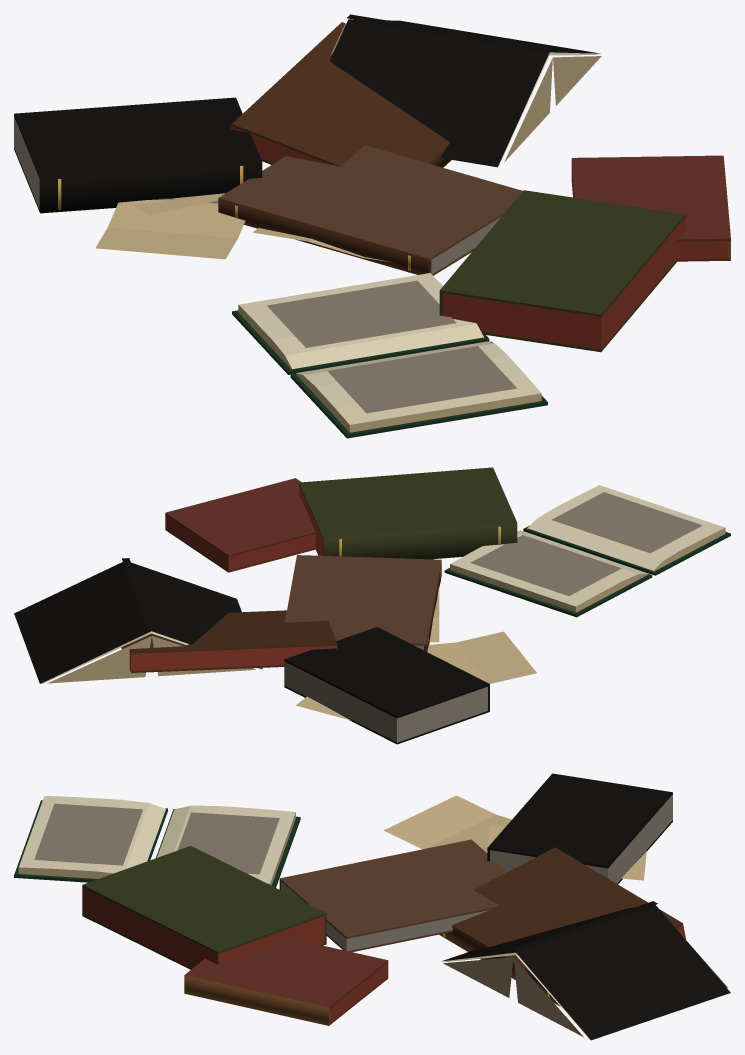
Rendered from books_fallen@1.glb.
3 renders of one model, top to bottom at view 1: azimuth 30°, elevation 25°; view 2: azimuth 150°, elevation 25°; view 3: azimuth 270°, elevation 25°, orthographic. The views are drawn at different scales.
Visible parts, largest first — view 1: buecher; view 2: buecher; view 3: buecher.
Boxes of the visible parts, <box> form: buecher: <box>14,14,730,438</box>; buecher: <box>14,467,730,744</box>; buecher: <box>14,773,730,1040</box>.
Size of the model in its own units: 0.8167 by 0.1032 by 1.04.
